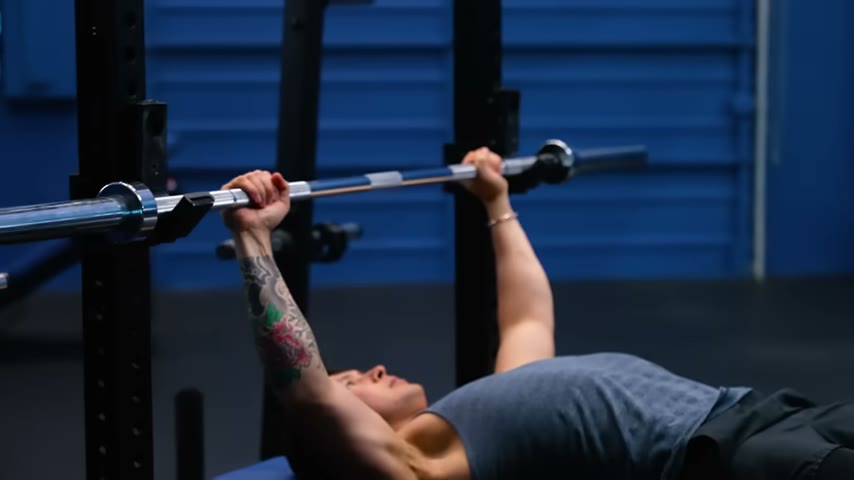barbell_plate_side: (0, 3, 154, 449)
